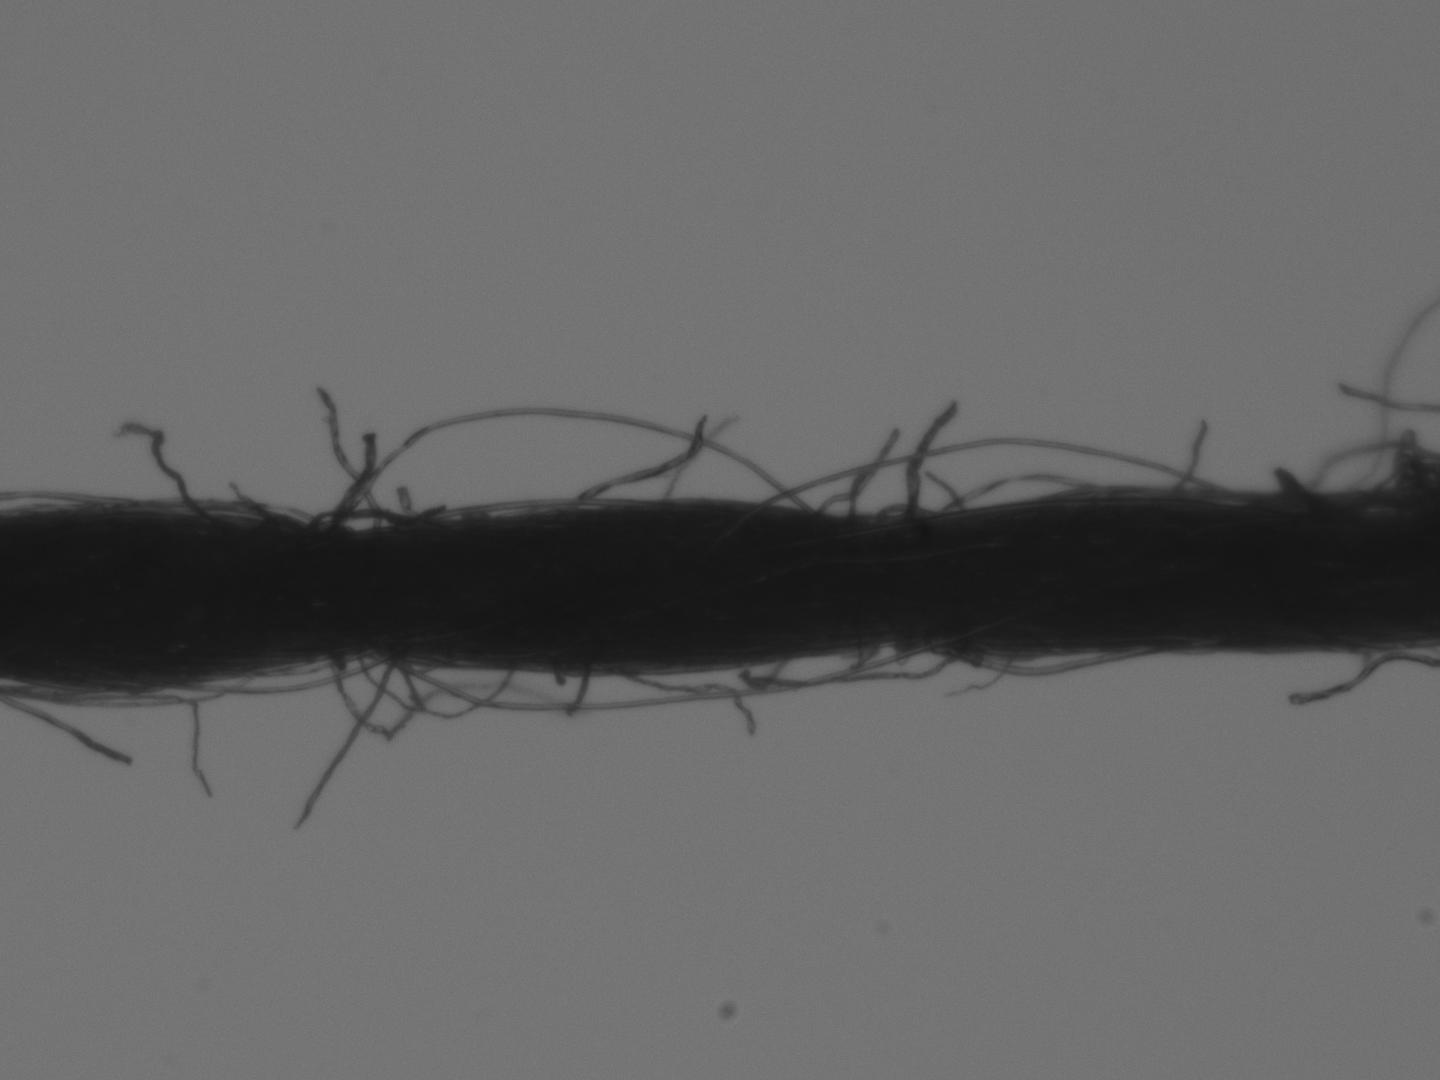loop_fiber: (328, 404, 806, 525), (766, 434, 1225, 513), (355, 648, 513, 724), (173, 647, 398, 697), (931, 644, 1167, 681), (734, 638, 878, 693), (933, 467, 1090, 517), (310, 508, 405, 531), (379, 644, 446, 674), (881, 500, 929, 518)
protruding_fiber: (119, 415, 207, 522), (183, 668, 217, 801), (1170, 417, 1211, 499)
